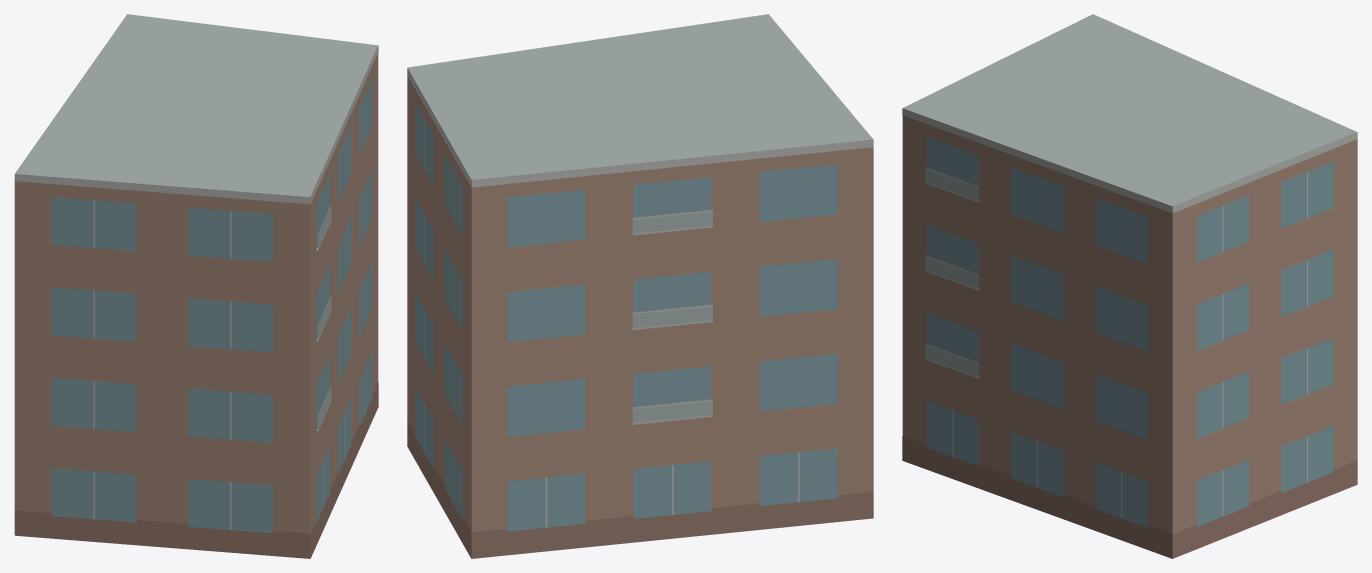
The model's file is residential-2b476f42-06d4-434b-87ae-73500f9a7b05.glb.
The picture shows the model from 3 angles, left to right: view 1: azimuth 30°, elevation 25°; view 2: azimuth 150°, elevation 25°; view 3: azimuth 270°, elevation 25°; orthographic projection. The views are drawn at different scales.
Visible parts, largest first — view 1: residential-2b476f42-06d4-434b-87ae-73500f9a7b05.tmp; view 2: residential-2b476f42-06d4-434b-87ae-73500f9a7b05.tmp; view 3: residential-2b476f42-06d4-434b-87ae-73500f9a7b05.tmp.
Boxes of the visible parts, x1=… form: residential-2b476f42-06d4-434b-87ae-73500f9a7b05.tmp: x1=14, y1=14, x2=378, y2=558; residential-2b476f42-06d4-434b-87ae-73500f9a7b05.tmp: x1=407, y1=14, x2=873, y2=558; residential-2b476f42-06d4-434b-87ae-73500f9a7b05.tmp: x1=902, y1=14, x2=1357, y2=558.
Bounding box in the file's own units: 14.29 × 12.2 × 14.28.
